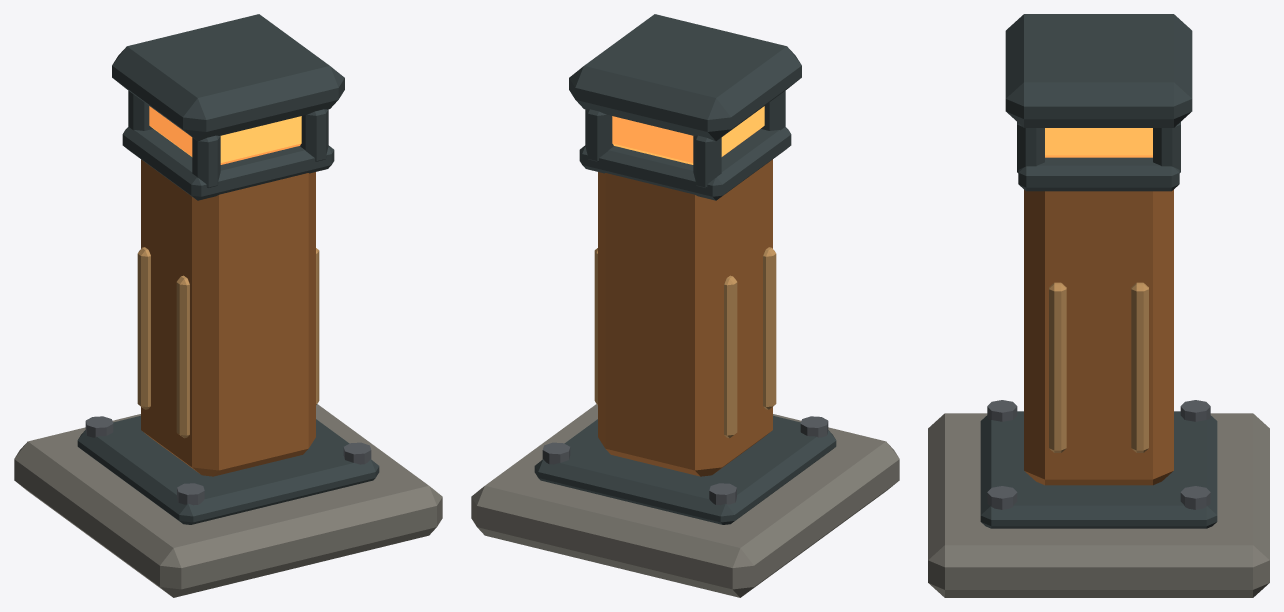
The model's file is e8b-pit-shoulder-lantern.glb.
3 renders of one model, left to right at view 1: azimuth 30°, elevation 25°; view 2: azimuth 150°, elevation 25°; view 3: azimuth 270°, elevation 25°, orthographic. The views are drawn at different scales.
Visible parts, largest first — view 1: Pallet Pit Enclosed Shoulder Lantern; view 2: Pallet Pit Enclosed Shoulder Lantern; view 3: Pallet Pit Enclosed Shoulder Lantern.
Boxes of the visible parts, box(x1,y1,x2,y2) form: Pallet Pit Enclosed Shoulder Lantern: box(14, 14, 442, 597); Pallet Pit Enclosed Shoulder Lantern: box(471, 14, 899, 597); Pallet Pit Enclosed Shoulder Lantern: box(928, 14, 1269, 597).
Size of the model in its own units: 0.89 by 1.38 by 0.88.
